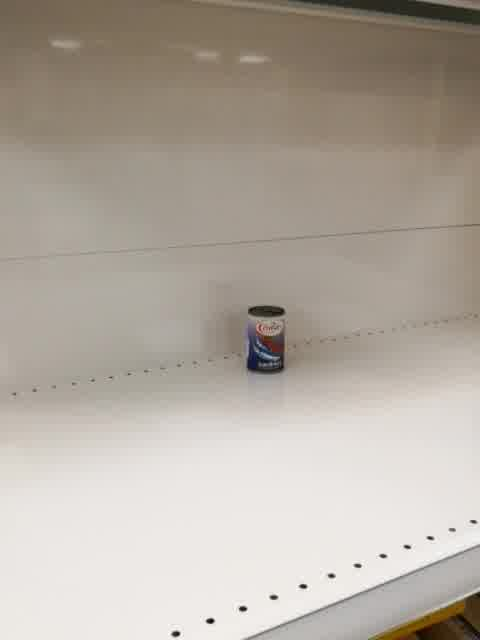sardine: (245, 305, 289, 374)
